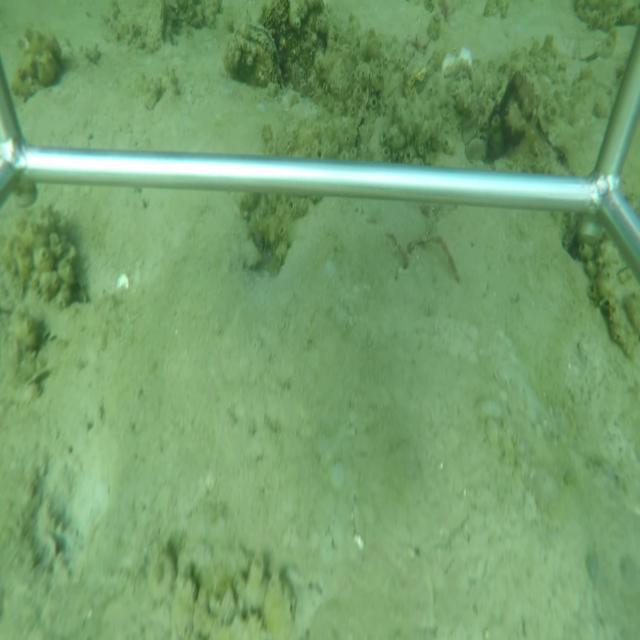Oyster-Closed: (590, 245, 637, 363)
Oyster-Indeterminate: (225, 20, 286, 90)
